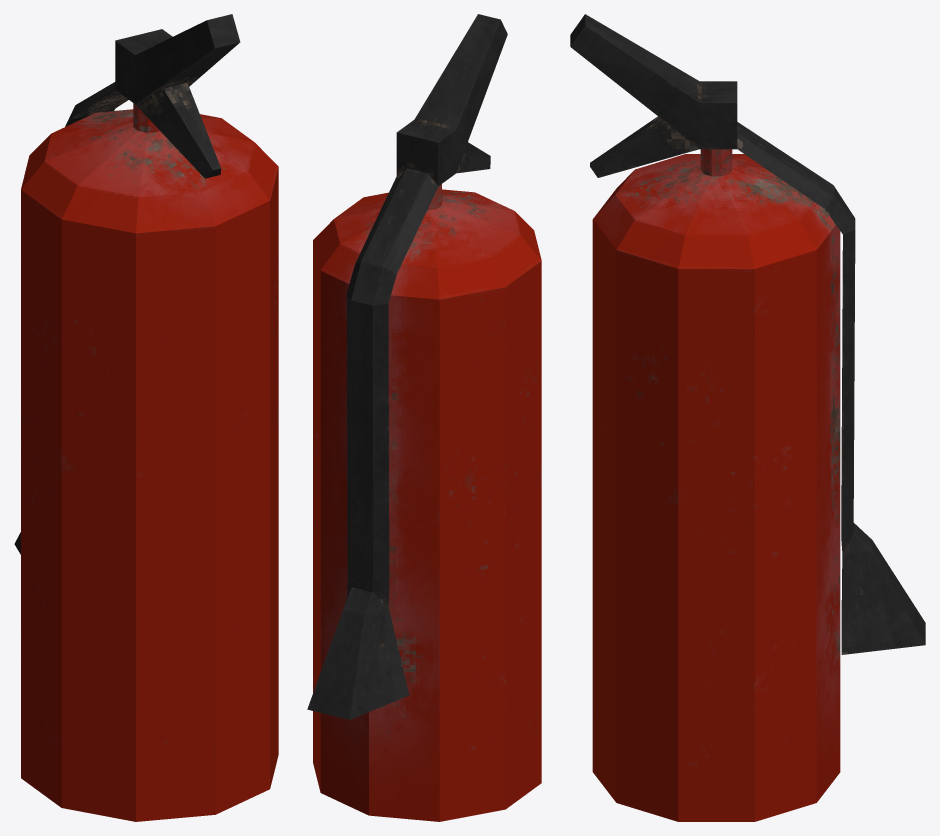
File: FireExtinguisher.glb
3 renders of one model, left to right at view 1: azimuth 30°, elevation 25°; view 2: azimuth 150°, elevation 25°; view 3: azimuth 270°, elevation 25°, orthographic. The views are drawn at different scales.
Parts seen in each view (by area): view 1: Cylinder, Cube; view 2: Cylinder, Cube; view 3: Cylinder, Cube.
Boxes of the visible parts, <box> form: Cylinder: <box>21,103,278,821</box>; Cube: <box>14,14,240,554</box>; Cylinder: <box>313,184,541,821</box>; Cube: <box>307,14,507,719</box>; Cylinder: <box>592,149,840,821</box>; Cube: <box>570,14,925,654</box>.
Bounding box in the file's own units: 0.2103 × 0.7415 × 0.3177.
1 material, 1 textured.
